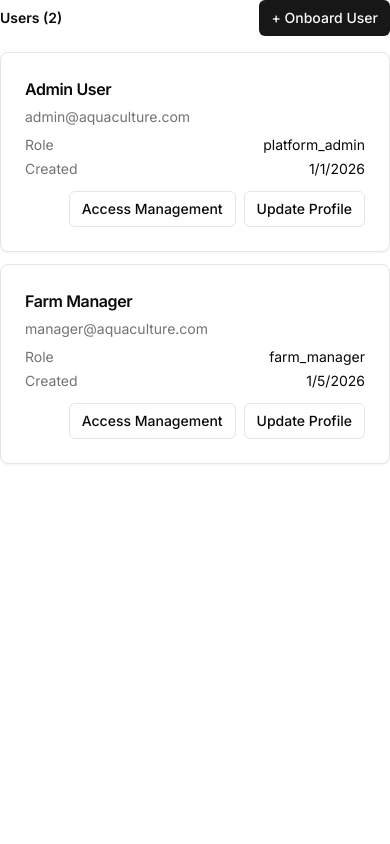
Test case: Users — Access Management dialog routing › clicking Access Management on a row opens the dialog and fetches that user's access
Expected: the heading "Users (2)" is shown, [0, 8, 62, 28]
What coordinates should you click on to do the following:
click the button "Access Management" below "1/5/2026"
I would click on:
 (152, 421)
Its box is [69, 403, 236, 439].
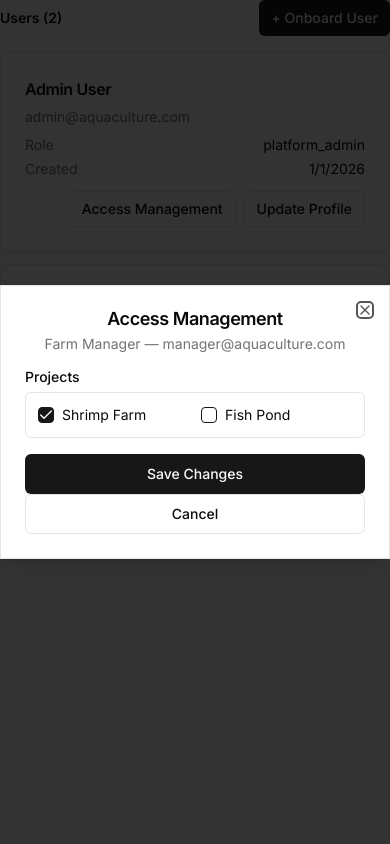
Expected: the heading "Access Management" is shown, [107, 308, 283, 329]
Expected: the dialog shows "Farm Manager", [0, 285, 389, 559]
Expected: the dialog shows "manager@aquaculture.com", [162, 335, 346, 352]
